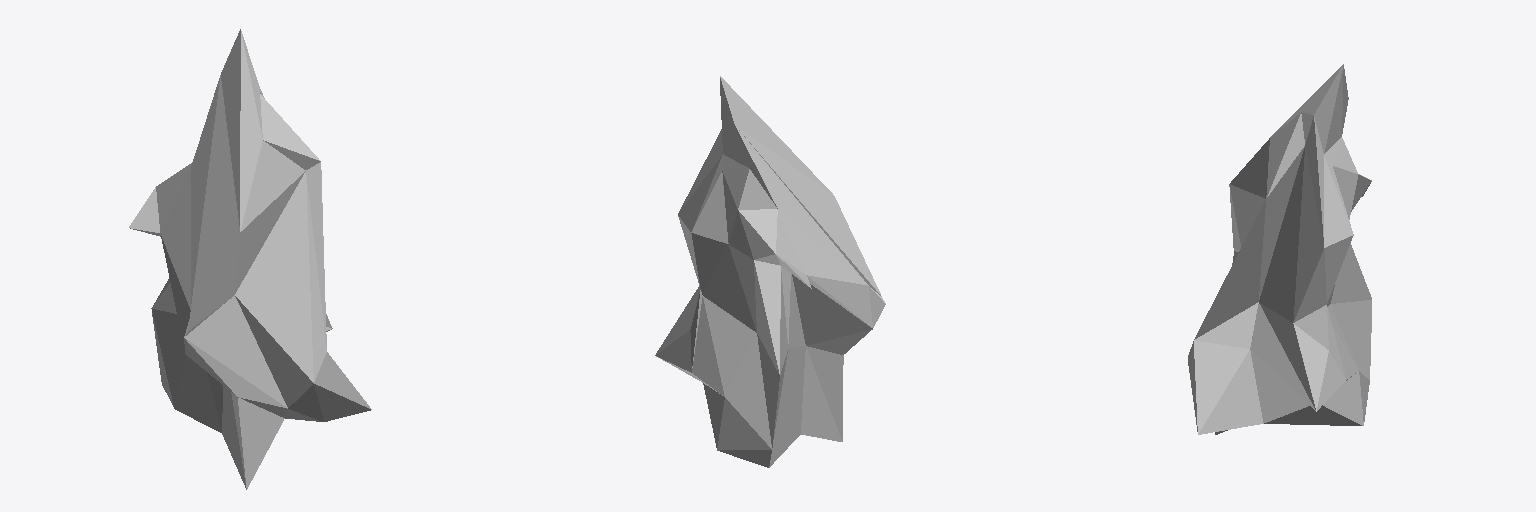
Rendered from crystal.obj.
The picture shows the model from 3 angles: view 1: azimuth 30°, elevation 25°; view 2: azimuth 150°, elevation 25°; view 3: azimuth 270°, elevation 25°; orthographic projection.
Visible parts, largest first — view 1: Cube_Cube.001; view 2: Cube_Cube.001; view 3: Cube_Cube.001.
Boxes of the visible parts, x1=… form: Cube_Cube.001: x1=129, y1=29, x2=371, y2=489; Cube_Cube.001: x1=655, y1=76, x2=885, y2=467; Cube_Cube.001: x1=1188, y1=64, x2=1371, y2=434.
Bounding box in the file's own units: 2.1 × 4.22 × 1.77.